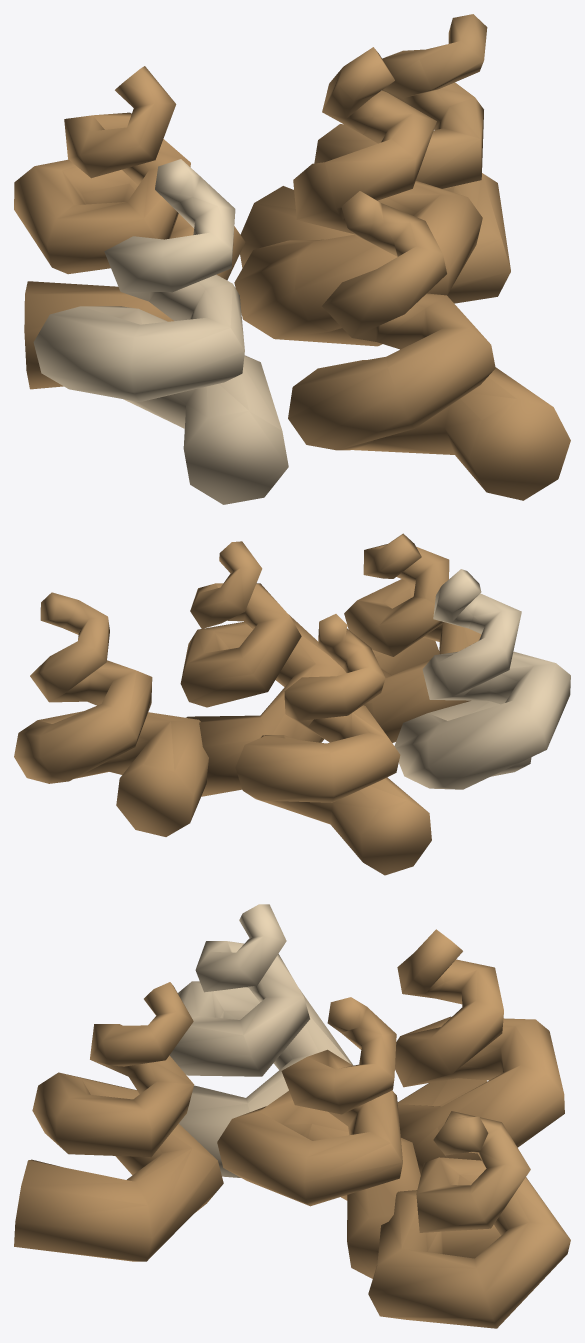
Rendered from grotto_gc_shells.glb.
3 views of the same model, one above another, from view 1: azimuth 30°, elevation 25°; view 2: azimuth 150°, elevation 25°; view 3: azimuth 270°, elevation 25° (orthographic). The views are drawn at different scales.
Visible parts, largest first — view 1: grotto_gc_shells; view 2: grotto_gc_shells; view 3: grotto_gc_shells.
Boxes of the visible parts, left/top/right/bottom form: grotto_gc_shells: left=14, top=14, right=570, bottom=504; grotto_gc_shells: left=14, top=533, right=570, bottom=875; grotto_gc_shells: left=14, top=904, right=570, bottom=1328.
Size of the model in its own units: 1.83 by 0.9647 by 1.76.
